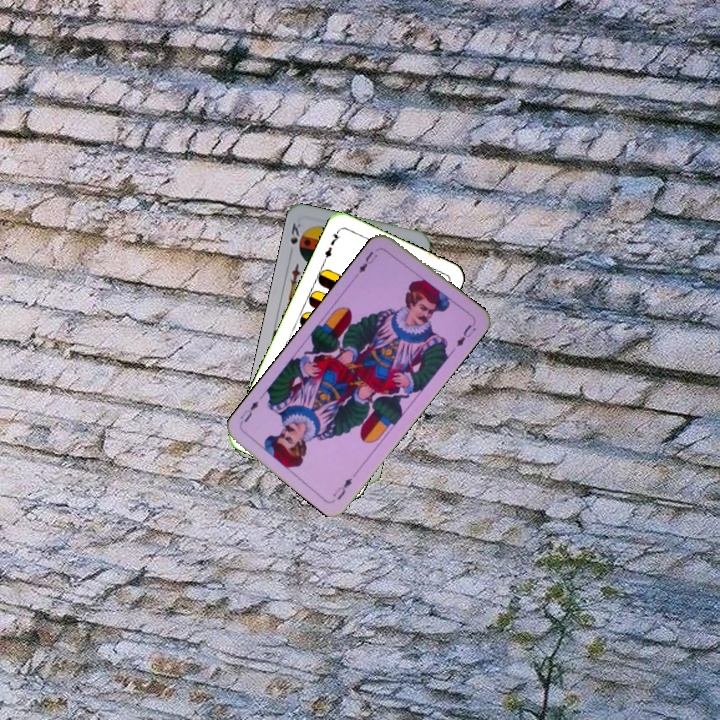E7: (320, 226, 343, 264)
EU: (329, 474, 355, 503), (355, 247, 380, 276)
SK: (286, 219, 304, 247)
